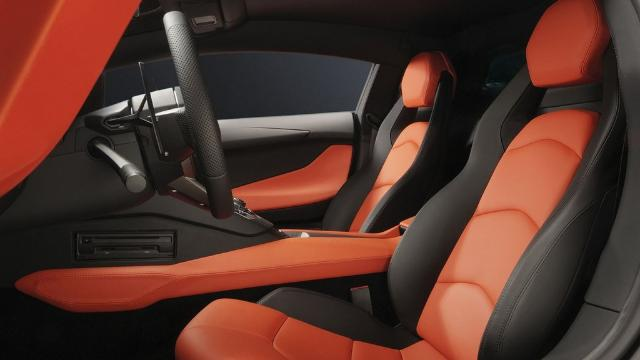Seatbelt: (370, 124, 378, 162)
